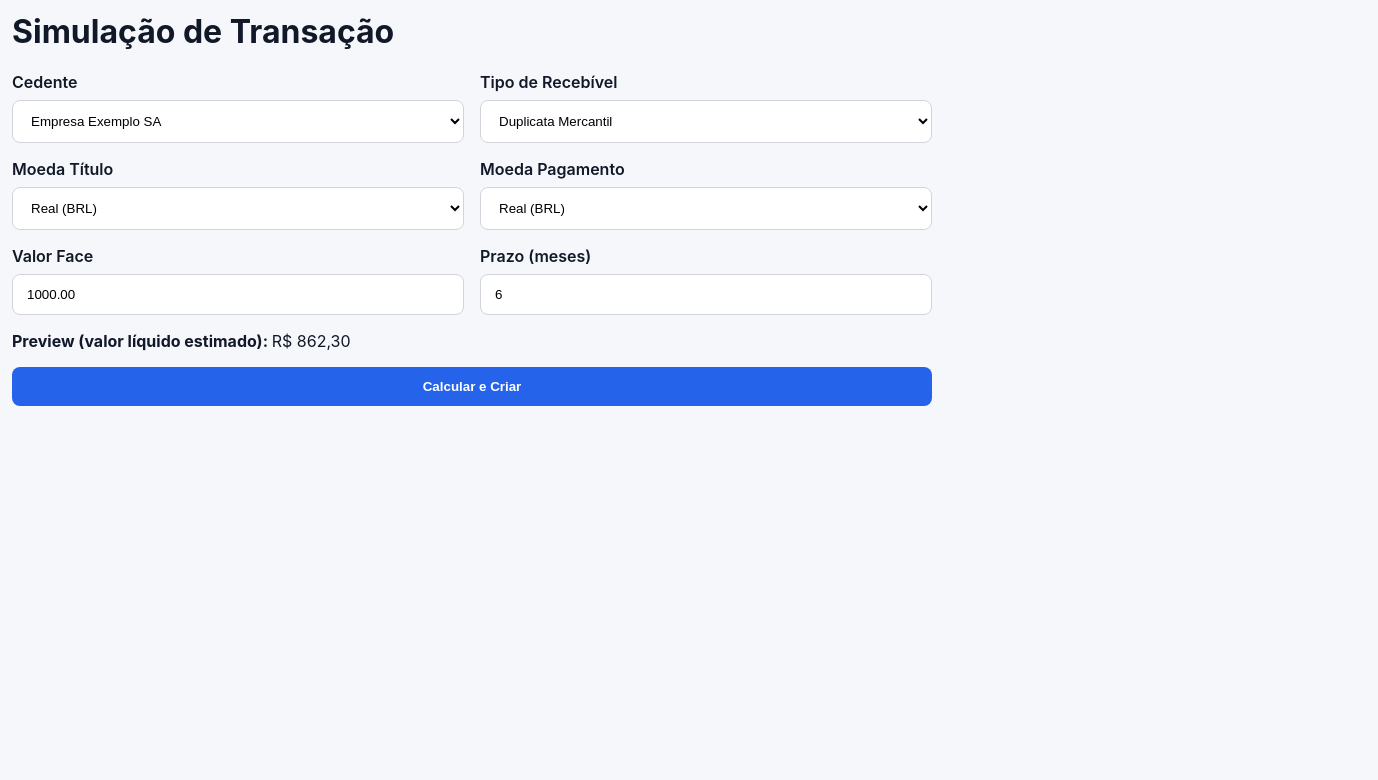
Test case: TransacaoPage › shows a success toast with the real valorLiquido returned by the backend
Click the button "Calcular e Criar" at (472, 387), box [12,367,932,406]
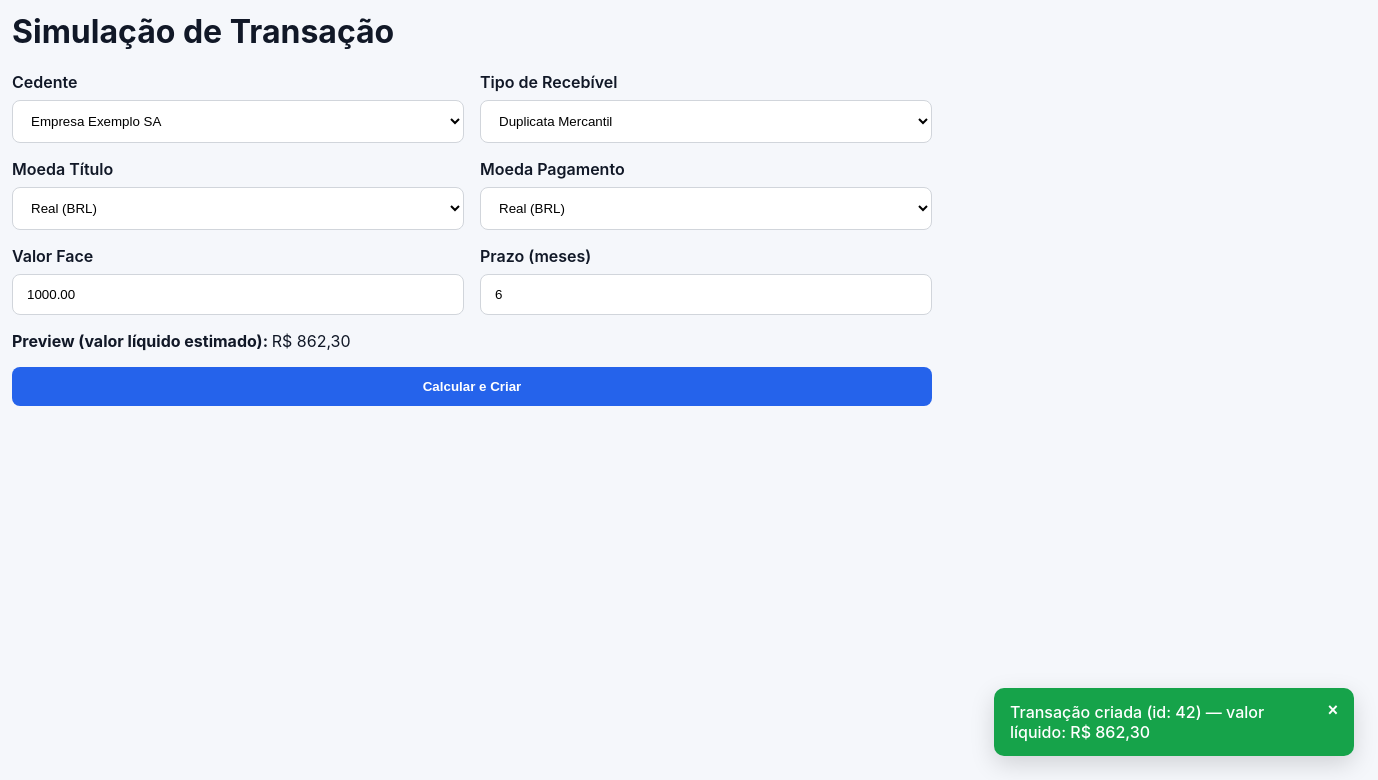
Check: the text "Transação criada (id: 42) — valor líquido: R$ 862,30" is shown, box [1010,702,1264,742]
